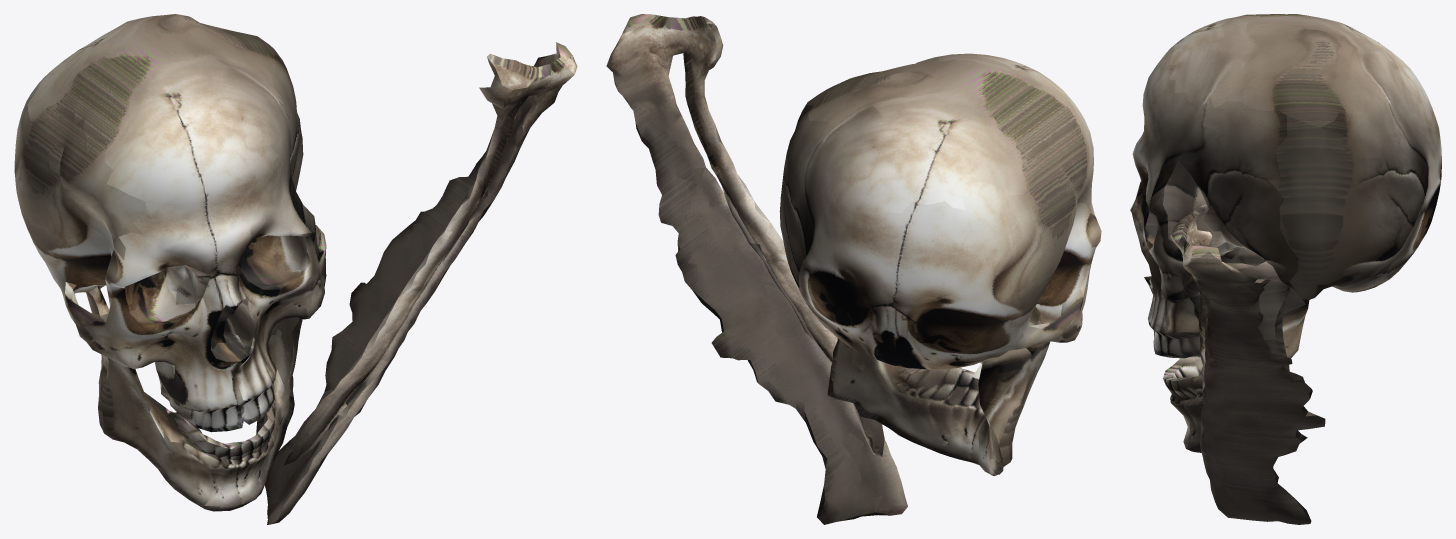
File: bone_pile.glb
3 renders of one model, left to right at view 1: azimuth 30°, elevation 25°; view 2: azimuth 150°, elevation 25°; view 3: azimuth 270°, elevation 25°, orthographic. The views are drawn at different scales.
Visible parts, largest first — view 1: geometry_0; view 2: geometry_0; view 3: geometry_0.
Boxes of the visible parts, x1,y1,x2,y2 form: geometry_0: (14,14,577,524); geometry_0: (606,14,1101,524); geometry_0: (1130,14,1441,524).
Bounding box in the file's own units: 0.522 × 0.5 × 0.308.
Materials: 1 (1 with a texture image).
